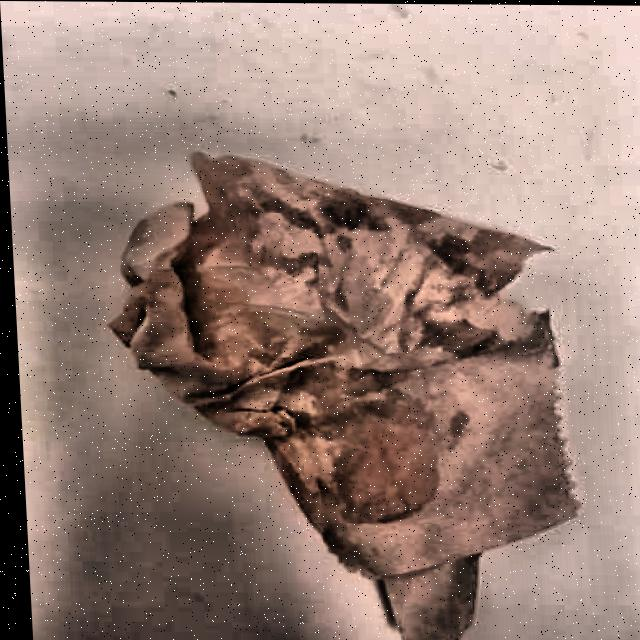trash: (91, 151, 603, 640)
